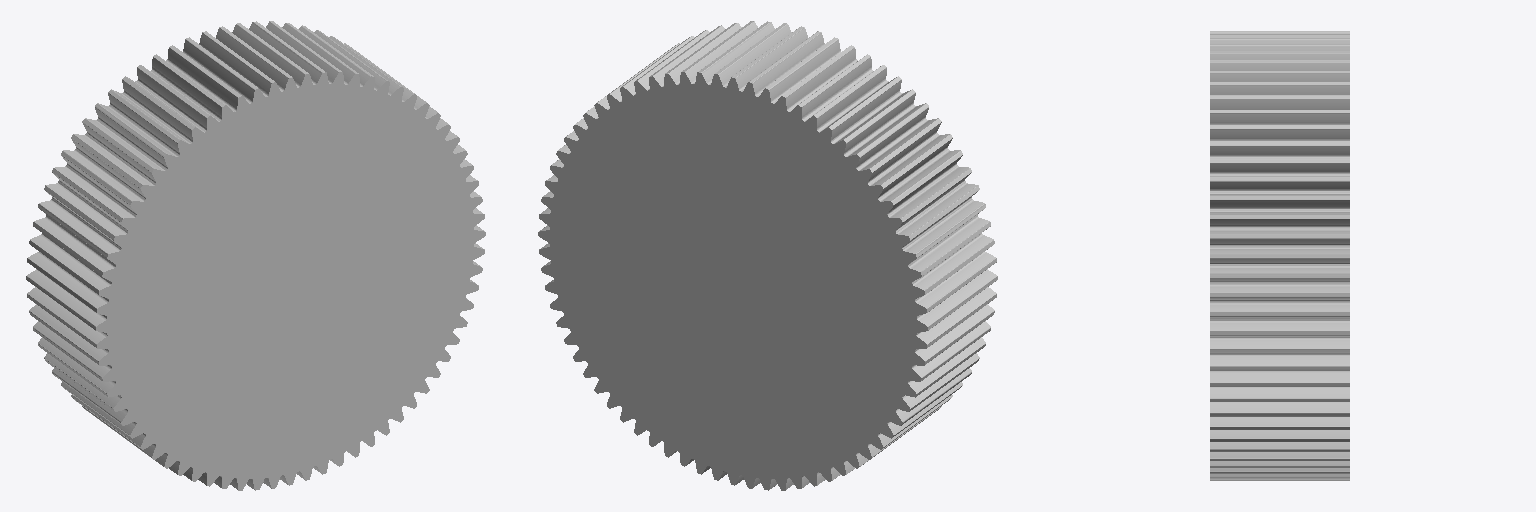
The model's file is pargear3.obj.
3 views of the same model, side by side, from view 1: azimuth 30°, elevation 25°; view 2: azimuth 150°, elevation 25°; view 3: azimuth 270°, elevation 25° (orthographic).
Parts seen in each view (by area): view 1: 1; view 2: 1; view 3: 1.
Boxes of the visible parts, box(x1,y1,x2,y2) form: 1: box(26, 21, 485, 490); 1: box(538, 21, 997, 490); 1: box(1210, 31, 1349, 480).
Bounding box in the file's own units: 388 × 388 × 120.